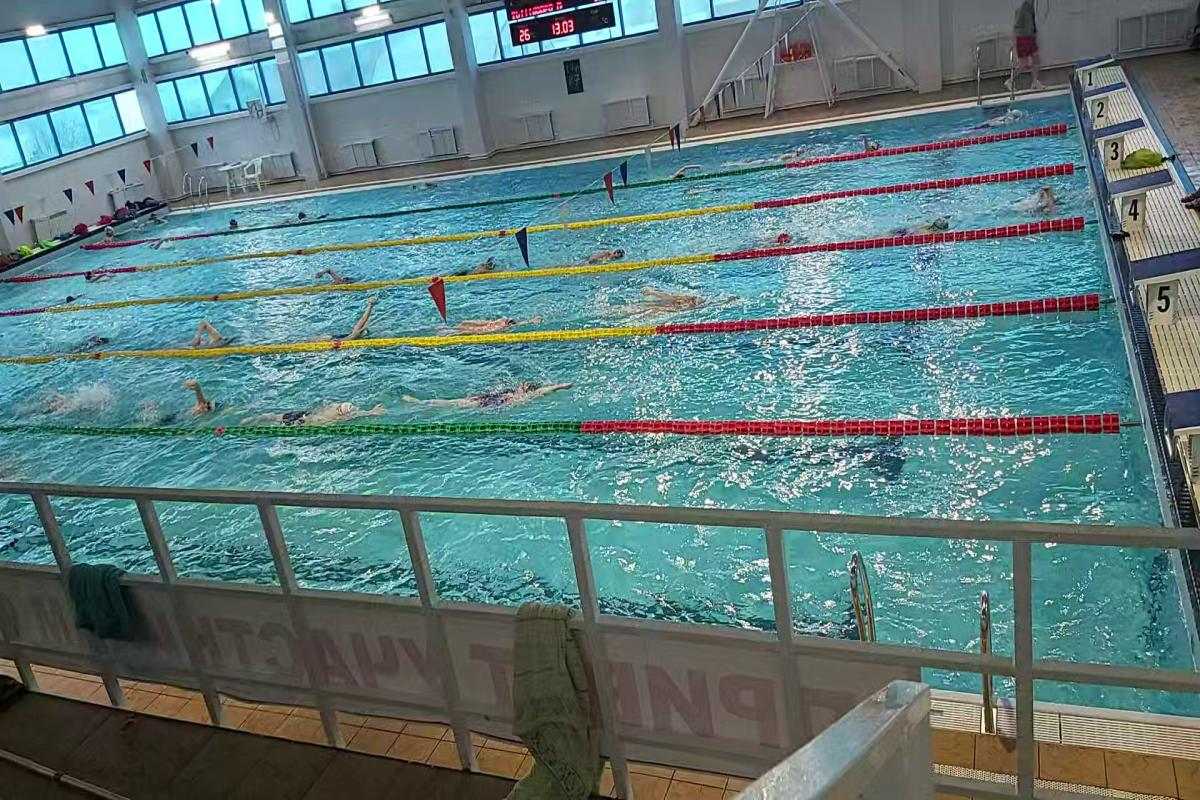swimmer: (411, 373, 583, 414), (270, 385, 389, 425), (166, 374, 230, 426), (316, 297, 388, 336), (444, 310, 542, 332), (736, 223, 803, 247), (883, 210, 956, 232), (191, 317, 241, 345), (312, 264, 367, 284), (575, 247, 640, 263), (79, 262, 122, 284)
